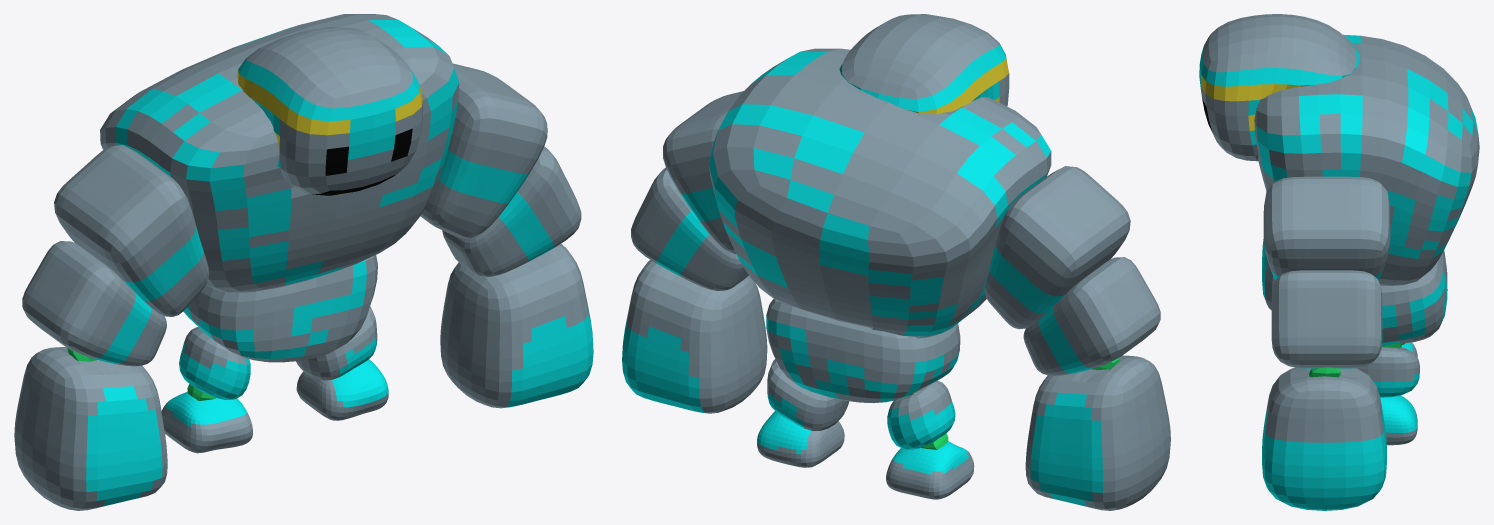
File: Golem2.2.fbx
The picture shows the model from 3 angles, left to right: view 1: azimuth 30°, elevation 25°; view 2: azimuth 150°, elevation 25°; view 3: azimuth 270°, elevation 25°; orthographic projection. The views are drawn at different scales.
Parts seen in each view (by area): view 1: Body.001; view 2: Body.001; view 3: Body.001.
Part boxes in pixels (x1,y1,x2,y2): Body.001: (14, 14, 593, 510); Body.001: (622, 14, 1170, 510); Body.001: (1199, 14, 1479, 510).
Bounding box in the file's own units: 345 × 259 × 172.
